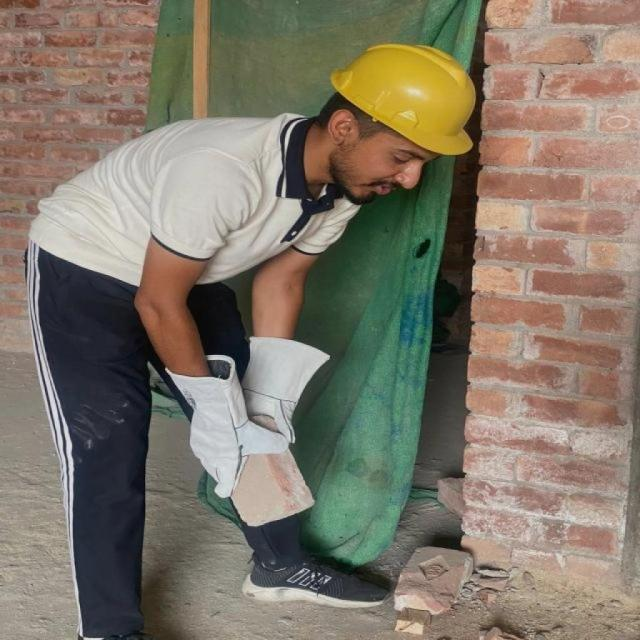Gloves-Detection: (194, 359, 286, 475), (238, 328, 319, 438)
